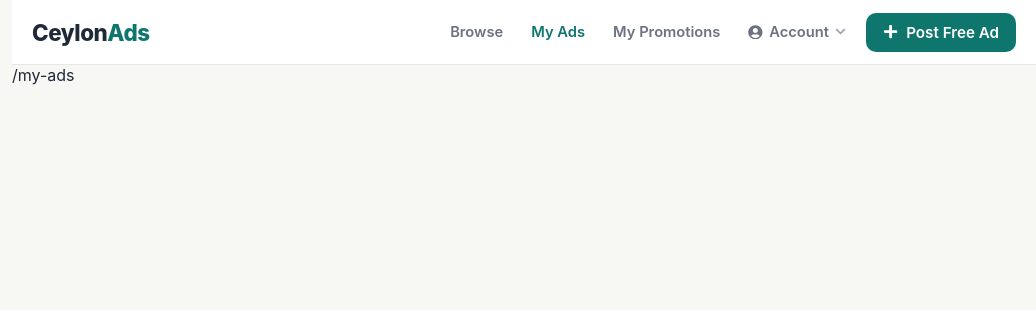
Scenario: Header - authenticated desktop › navigates to My Ads from the dropdown and closes it
This screenshot has width=1036, height=310.
Step 1. Click the button "Account" → [797, 32], box top-left (744, 15), bottom-right (850, 49)
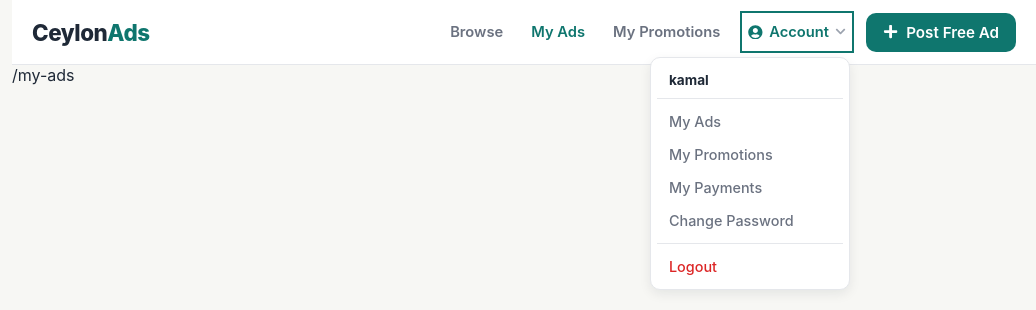
Step 2. Click the menu item "My Ads" → [695, 122], box top-left (669, 113), bottom-right (721, 130)
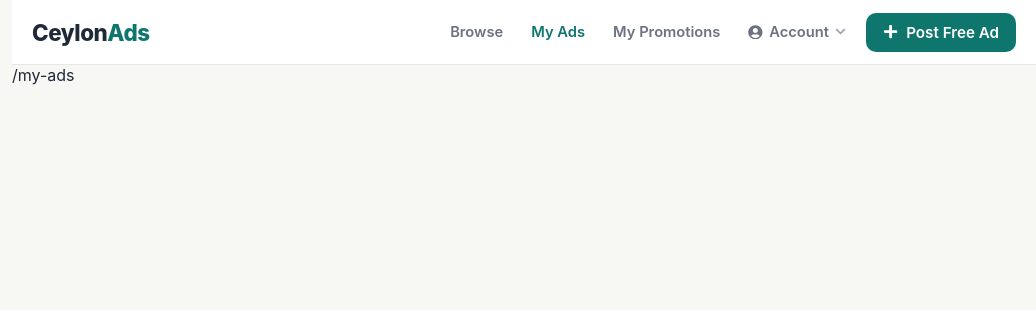
Check: the text with test id "location" reads "/my-ads", box top-left (12, 65), bottom-right (74, 85)
Check: the menu is gone
